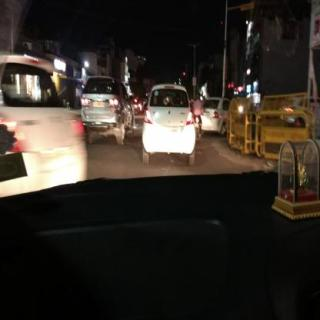Normal_vehicle: (143, 84, 196, 165)
